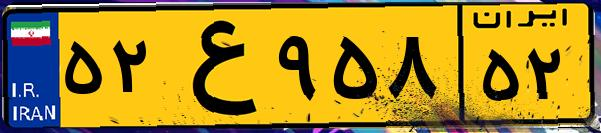2: (525, 38, 570, 115), (110, 28, 158, 98)
5: (330, 28, 385, 110), (57, 26, 110, 100), (475, 38, 525, 113)
8: (385, 28, 445, 110)
9: (270, 28, 330, 110)
ع: (158, 12, 270, 120)
